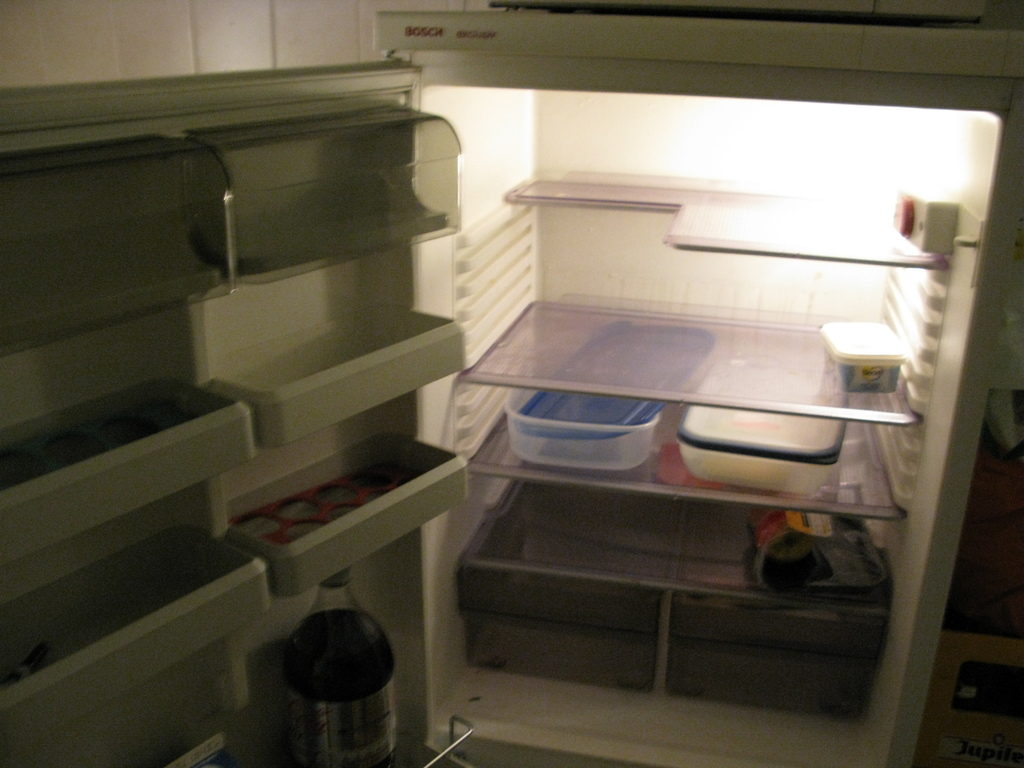Refrigerator: (0, 6, 1023, 767)
